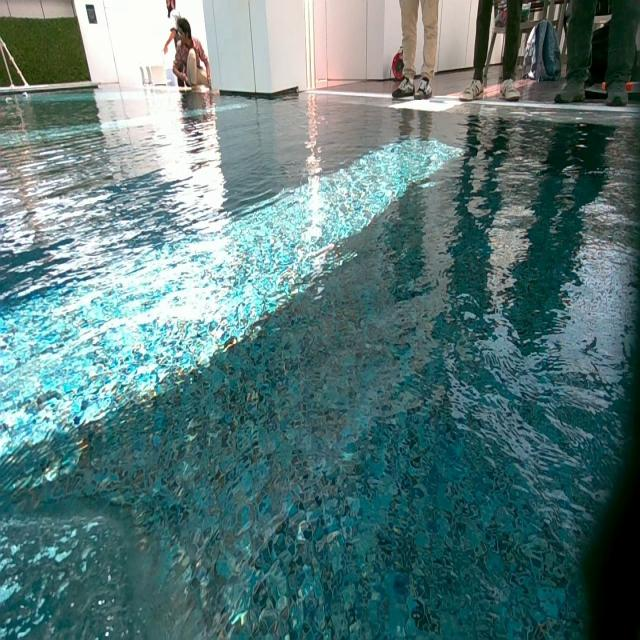Cans: (22, 92, 31, 99)
